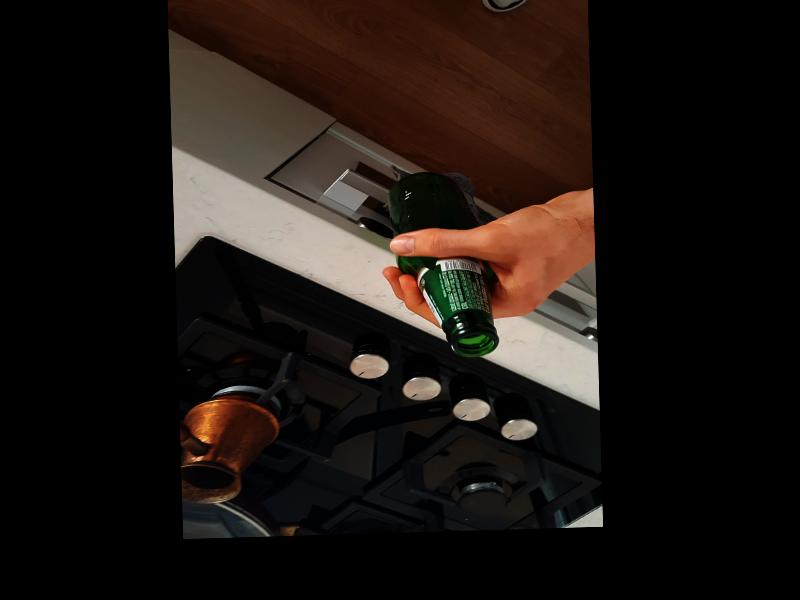Beer: (389, 169, 498, 359)
